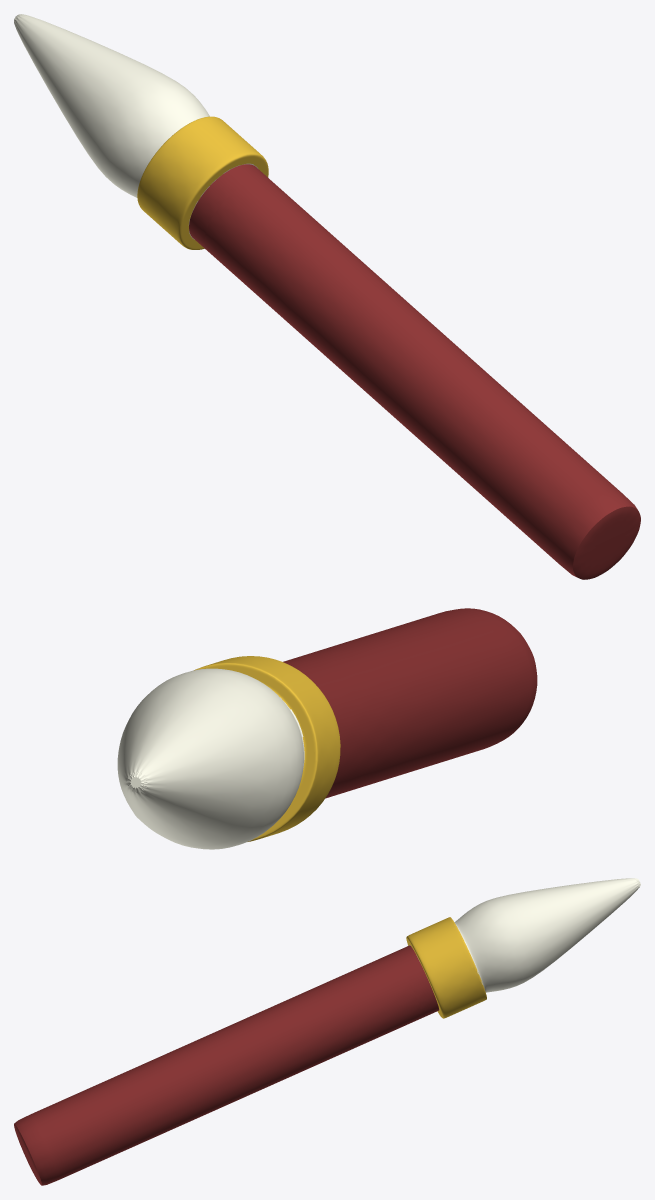
The model's file is pincel solo.gltf.
The picture shows the model from 3 angles, top to bottom: view 1: azimuth 30°, elevation 25°; view 2: azimuth 150°, elevation 25°; view 3: azimuth 270°, elevation 25°; orthographic projection. The views are drawn at different scales.
Visible parts, largest first — view 1: Cylinder-Mat (×4); view 2: Cylinder-Mat (×5); view 3: Cylinder-Mat (×4).
Part boxes in pixels (box(x1,y1,x2,y2)): Cylinder-Mat (×4): box(14, 14, 640, 579); Cylinder-Mat (×5): box(117, 608, 537, 849); Cylinder-Mat (×4): box(14, 878, 640, 1185).
Size of the model in its own units: 0.0955 by 0.1237 by 0.2946.
